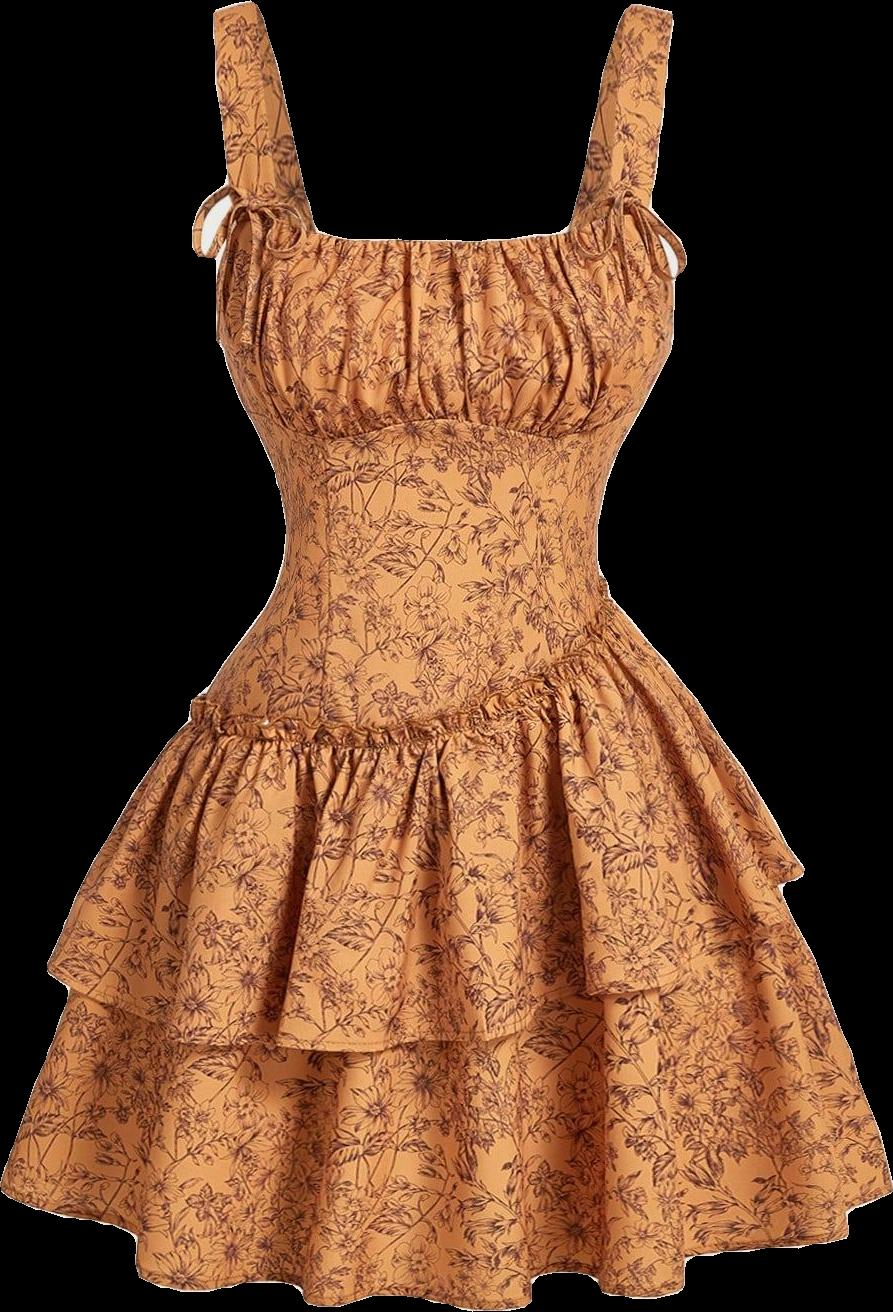Bodice: (184, 2, 686, 747)
Hemline: (45, 863, 812, 1061), (0, 1178, 892, 1311)
Neckline: (246, 2, 641, 251), (246, 407, 637, 452)
Skirt: (1, 615, 891, 1309)
Waistline: (182, 609, 630, 759)
